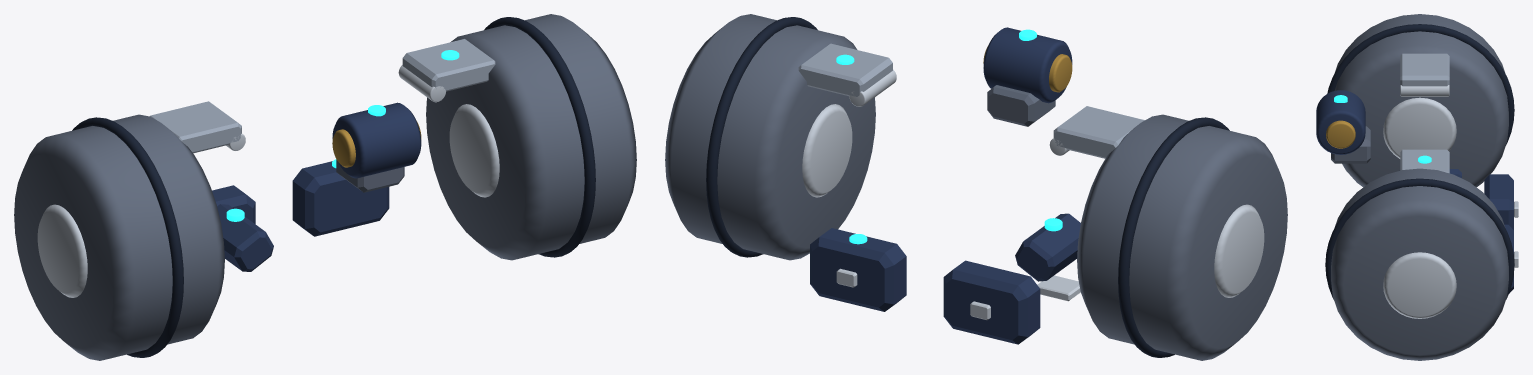
File: tower_skywatch_rate_s6.glb
3 renders of one model, left to right at view 1: azimuth 30°, elevation 25°; view 2: azimuth 150°, elevation 25°; view 3: azimuth 270°, elevation 25°, orthographic. The views are drawn at different scales.
Parts seen in each view (by area): view 1: skywatch_big_drum_r, skywatch_big_drum_l, skywatch_belt_box-0.24, skywatch_feed_motor, skywatch_big_drum_cap_l, skywatch_big_drum_cap_r, skywatch_big_drum_rib_l, skywatch_big_drum_rib_r, skywatch_belt_guide_l, skywatch_belt_guide_r, skywatch_eject_chute, skywatch_feed_motor_mount (+3 smaller); view 2: skywatch_big_drum_r, skywatch_big_drum_l, skywatch_belt_box0.24, skywatch_belt_box-0.24, skywatch_feed_motor, skywatch_big_drum_cap_l, skywatch_big_drum_cap_r, skywatch_big_drum_rib_l, skywatch_big_drum_rib_r, skywatch_belt_guide_l, skywatch_belt_guide_r, skywatch_eject_chute (+4 smaller); view 3: skywatch_big_drum_l, skywatch_big_drum_r, skywatch_big_drum_cap_l, skywatch_big_drum_cap_r, skywatch_big_drum_rib_l, skywatch_feed_motor, skywatch_big_drum_rib_r, skywatch_belt_guide_r, skywatch_belt_box0.24, skywatch_belt_guide_l, skywatch_feed_motor_cap, skywatch_feed_motor_mount (+1 smaller).
Boxes of the visible parts, x1=… form: skywatch_big_drum_r: x1=14, y1=114, x2=224, y2=360; skywatch_big_drum_l: x1=426, y1=14, x2=636, y2=260; skywatch_belt_box-0.24: x1=292, y1=161, x2=389, y2=236; skywatch_feed_motor: x1=332, y1=102, x2=421, y2=178; skywatch_big_drum_cap_l: x1=449, y1=104, x2=499, y2=197; skywatch_big_drum_cap_r: x1=37, y1=204, x2=87, y2=297; skywatch_big_drum_rib_l: x1=484, y1=17, x2=595, y2=257; skywatch_big_drum_rib_r: x1=72, y1=117, x2=183, y2=357; skywatch_belt_guide_l: x1=402, y1=39, x2=495, y2=91; skywatch_belt_guide_r: x1=150, y1=101, x2=241, y2=153; skywatch_eject_chute: x1=217, y1=204, x2=273, y2=271; skywatch_feed_motor_mount: x1=336, y1=159, x2=404, y2=192; skywatch_big_drum_r: x1=1077, y1=114, x2=1287, y2=360; skywatch_big_drum_l: x1=665, y1=14, x2=875, y2=260; skywatch_belt_box0.24: x1=943, y1=260, x2=1040, y2=344; skywatch_belt_box-0.24: x1=810, y1=228, x2=906, y2=311; skywatch_feed_motor: x1=983, y1=27, x2=1072, y2=103; skywatch_big_drum_cap_l: x1=802, y1=104, x2=852, y2=197; skywatch_big_drum_cap_r: x1=1214, y1=204, x2=1264, y2=297; skywatch_big_drum_rib_l: x1=706, y1=17, x2=817, y2=257; skywatch_big_drum_rib_r: x1=1118, y1=117, x2=1229, y2=357; skywatch_belt_guide_l: x1=798, y1=43, x2=892, y2=96; skywatch_belt_guide_r: x1=1053, y1=106, x2=1144, y2=158; skywatch_eject_chute: x1=1015, y1=213, x2=1080, y2=281; skywatch_big_drum_l: x1=1331, y1=168, x2=1508, y2=360; skywatch_big_drum_r: x1=1334, y1=14, x2=1508, y2=187; skywatch_big_drum_cap_l: x1=1383, y1=252, x2=1456, y2=318; skywatch_big_drum_cap_r: x1=1383, y1=97, x2=1456, y2=158; skywatch_big_drum_rib_l: x1=1325, y1=178, x2=1514, y2=299; skywatch_feed_motor: x1=1316, y1=90, x2=1365, y2=154; skywatch_big_drum_rib_r: x1=1327, y1=24, x2=1514, y2=144; skywatch_belt_guide_r: x1=1400, y1=53, x2=1449, y2=86; skywatch_belt_box0.24: x1=1484, y1=174, x2=1513, y2=229; skywatch_belt_guide_l: x1=1400, y1=149, x2=1449, y2=173; skywatch_feed_motor_cap: x1=1326, y1=120, x2=1355, y2=148; skywatch_feed_motor_mount: x1=1331, y1=126, x2=1370, y2=163.
Bounding box in the file's own units: 1.92 × 0.784 × 0.82.
